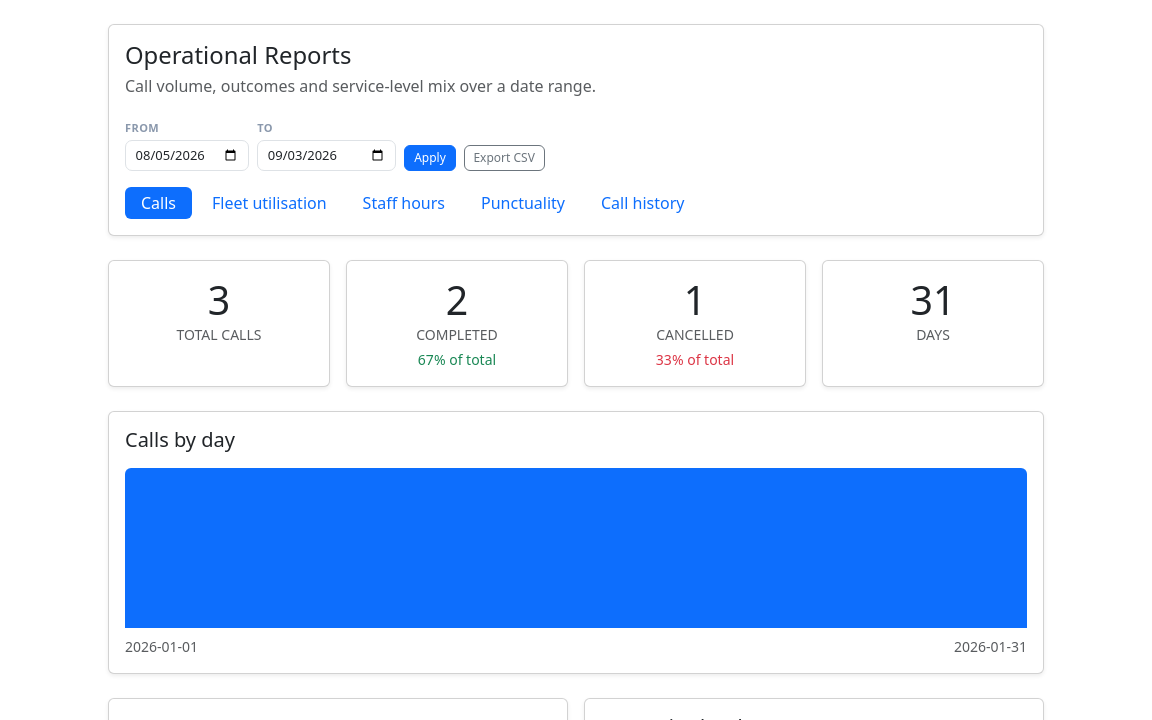
Scenario: ReportsPage › switches to fleet utilisation without rendering stale-shape data
Expected: the text "Total calls" is shown, [176,325,261,344]
Click the button "Fleet utilisation": (269, 203) [196,187,343,219]
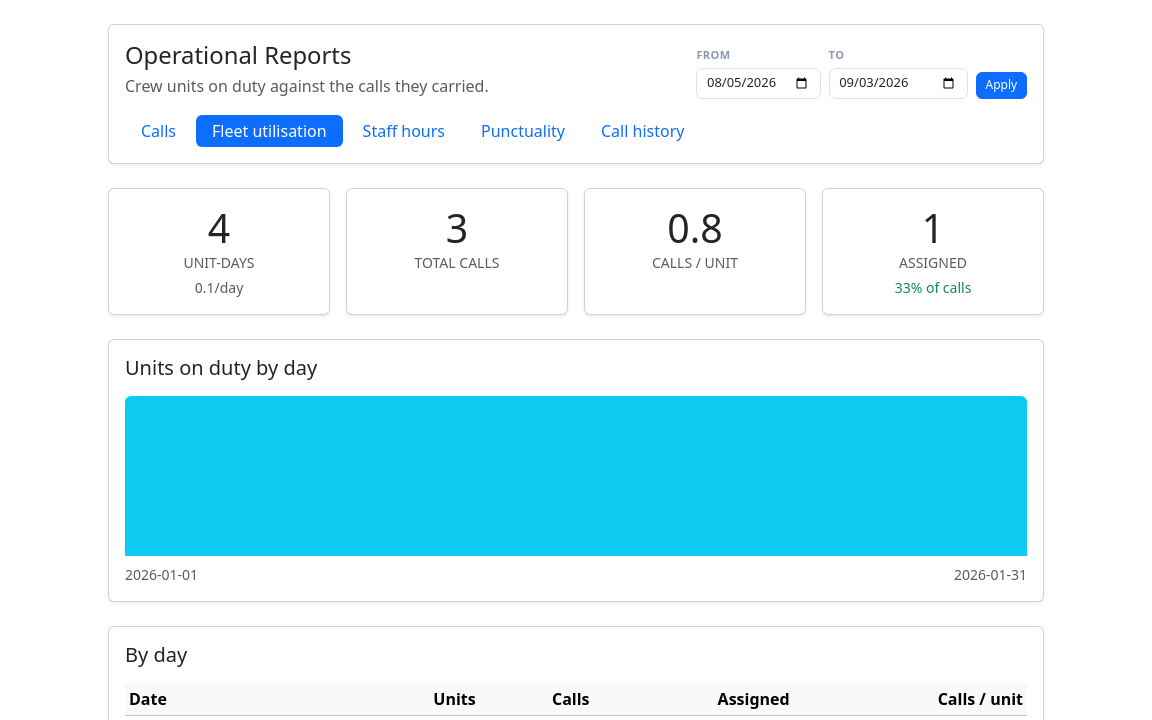
Expected: the text "Unit-days" is shown, [184,253,254,272]
Expected: the text "Calls / unit" is shown, [652,253,738,272]
